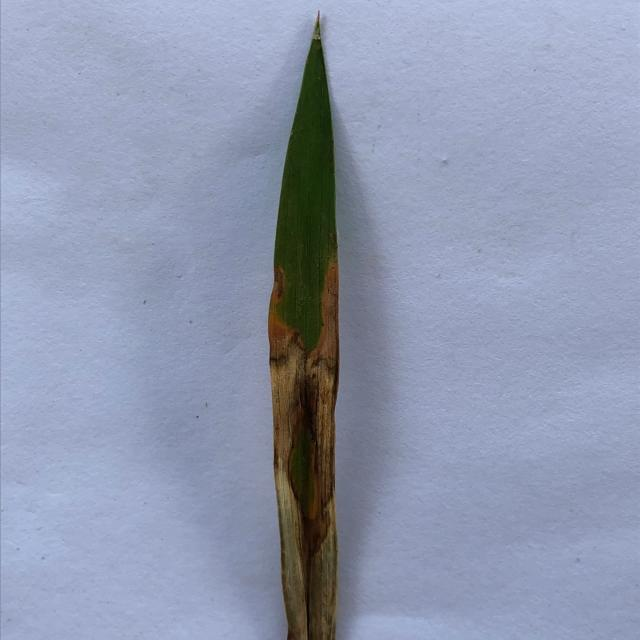Leaf Blight: (268, 258, 339, 640), (310, 10, 321, 46)
